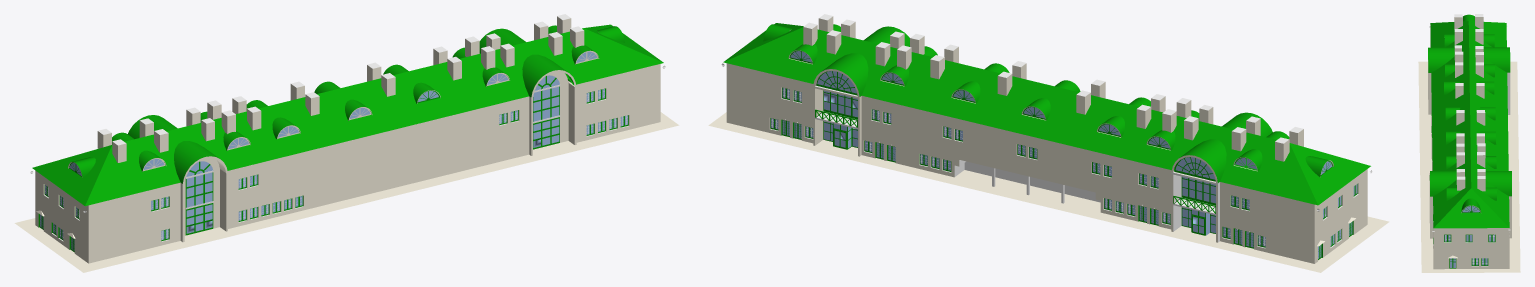
File: Agrykola.glb
The picture shows the model from 3 angles, left to right: view 1: azimuth 30°, elevation 25°; view 2: azimuth 150°, elevation 25°; view 3: azimuth 270°, elevation 25°; orthographic projection. The views are drawn at different scales.
Parts seen in each view (by area): view 1: Group2, Group1, komin1, wykusz1, Group4, Group3, Group6; view 2: Group2, Group1, komin1, wykusz1, Group3, Group6, Group4, Mesh99; view 3: Group1, Group2, komin1, wykusz1, Group6, Group4, Group3, Mesh99.
Boxes of the visible parts, x1,y1,x2,y2 form: Group2: [14, 64, 679, 272]; Group1: [32, 24, 663, 206]; komin1: [97, 14, 584, 162]; wykusz1: [68, 25, 624, 177]; Group4: [479, 28, 573, 97]; Group3: [167, 70, 576, 198]; Group6: [128, 115, 219, 183]; Group2: [708, 63, 1389, 272]; Group1: [723, 23, 1370, 205]; komin1: [803, 14, 1303, 161]; wykusz1: [763, 24, 1333, 177]; Group3: [813, 85, 1215, 233]; Group6: [1174, 112, 1272, 182]; Group4: [821, 26, 909, 96]; Mesh99: [1171, 171, 1219, 242]; Group1: [1430, 21, 1509, 228]; Group2: [1418, 25, 1520, 272]; komin1: [1454, 14, 1485, 191]; wykusz1: [1444, 14, 1496, 212]; Group6: [1428, 47, 1510, 72]; Group4: [1429, 171, 1511, 196]; Group3: [1428, 60, 1511, 238]; Mesh99: [1507, 72, 1510, 114].
Size of the model in its own units: 84.04 by 12.95 by 17.14.
